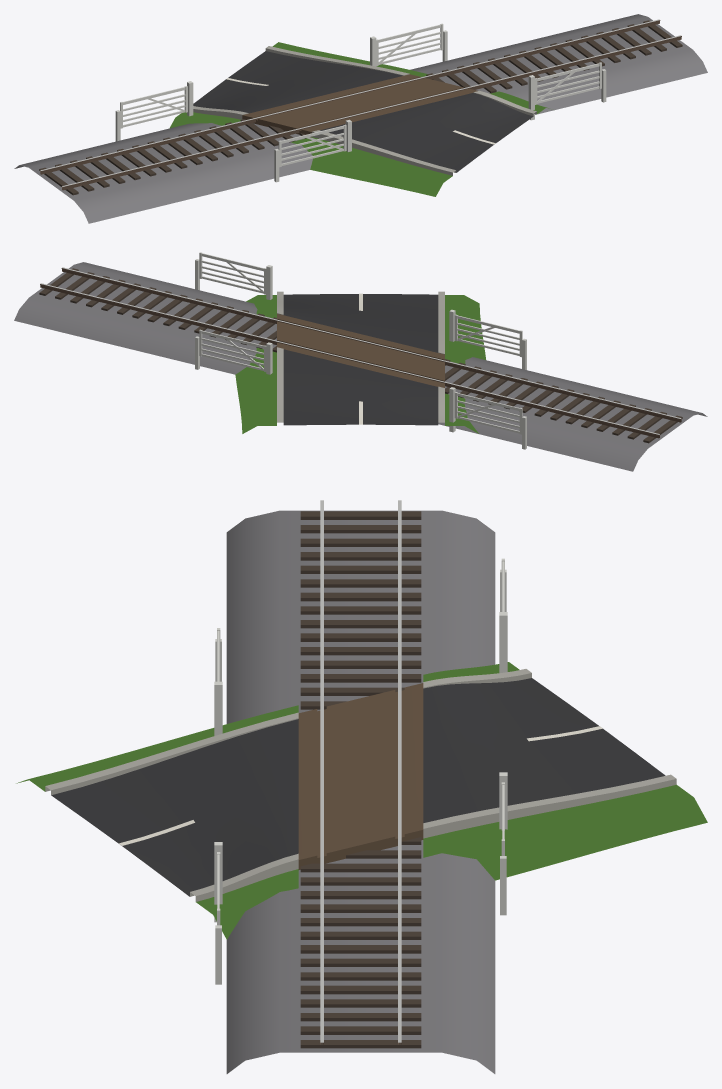
Rendered from rail_road_crossing_center.glb.
3 views of the same model, one above another, from view 1: azimuth 30°, elevation 25°; view 2: azimuth 150°, elevation 25°; view 3: azimuth 270°, elevation 25° (orthographic). The views are drawn at different scales.
Parts seen in each view (by area): view 1: rail_road_crossing_center_lod0; view 2: rail_road_crossing_center_lod0; view 3: rail_road_crossing_center_lod0.
Boxes of the visible parts, <box> form: rail_road_crossing_center_lod0: <box>14,14,707,223</box>; rail_road_crossing_center_lod0: <box>14,252,707,471</box>; rail_road_crossing_center_lod0: <box>16,500,707,1073</box>.
Size of what is drawn, in the model's own units: 27.71 by 1.83 by 14.99.
